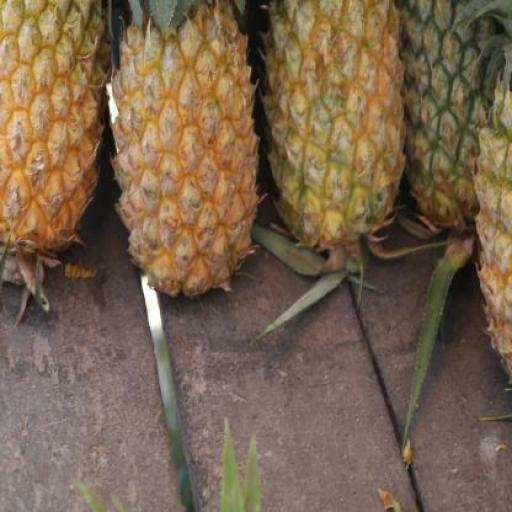------------------------------: (266, 0, 406, 247)
Pineapple - v8 v1: (112, 4, 262, 304), (0, 0, 124, 261)
